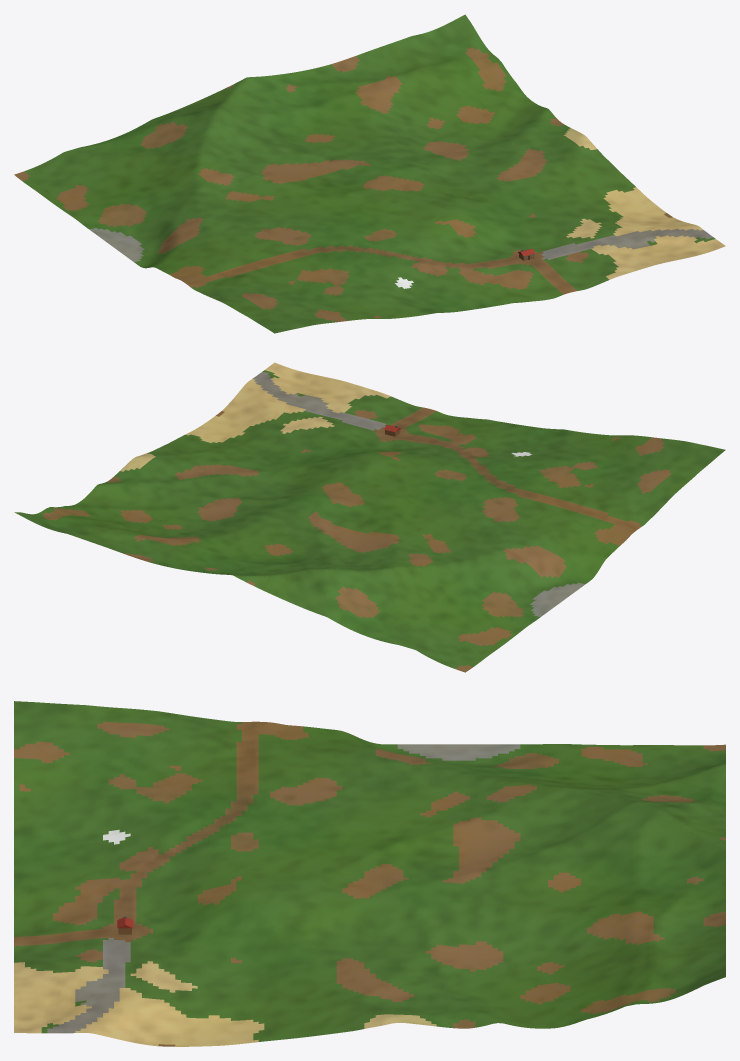
Rendered from chunk_4_4.glb.
The picture shows the model from 3 angles, top to bottom: view 1: azimuth 30°, elevation 25°; view 2: azimuth 150°, elevation 25°; view 3: azimuth 270°, elevation 25°; orthographic projection. The views are drawn at different scales.
Visible parts, largest first — view 1: Surface_Grass, Surface_Dirt, Surface_Sand, Surface_Gravel; view 2: Surface_Grass, Surface_Dirt, Surface_Sand, Surface_Gravel; view 3: Surface_Grass, Surface_Dirt, Surface_Sand, Surface_Gravel.
Part boxes in pixels (x1=…): Surface_Grass: x1=22, y1=14, x2=715, y2=333; Surface_Dirt: x1=14, y1=47, x2=672, y2=321; Surface_Sand: x1=563, y1=128, x2=725, y2=279; Surface_Gravel: x1=89, y1=228, x2=713, y2=262; Surface_Grass: x1=14, y1=370, x2=725, y2=668; Surface_Dirt: x1=42, y1=407, x2=671, y2=672; Surface_Sand: x1=120, y1=362, x2=390, y2=471; Surface_Gravel: x1=252, y1=371, x2=584, y2=616; Surface_Grass: x1=14, y1=701, x2=725, y2=1041; Surface_Dirt: x1=14, y1=721, x2=725, y2=1046; Surface_Sand: x1=14, y1=961, x2=436, y2=1046; Surface_Gravel: x1=47, y1=744, x2=520, y2=1033.
Bounding box in the file's own units: 256 × 27.84 × 256.
